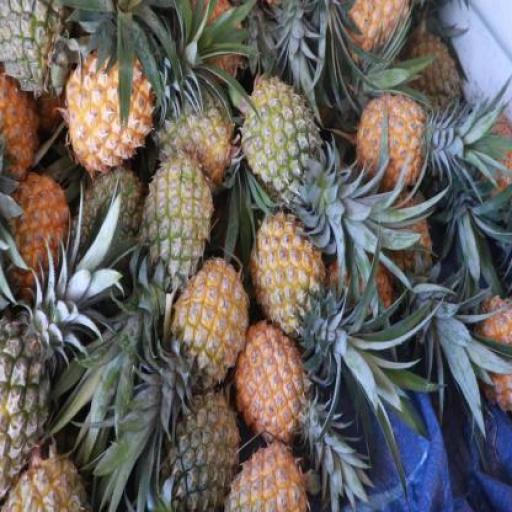------------------------------: (0, 312, 55, 505), (240, 77, 318, 205), (172, 255, 246, 387), (143, 154, 213, 288), (235, 322, 307, 450), (155, 97, 233, 185), (224, 434, 310, 511)
Pineapple - v8 v1: (67, 50, 153, 175), (252, 212, 326, 328), (356, 103, 428, 205)
